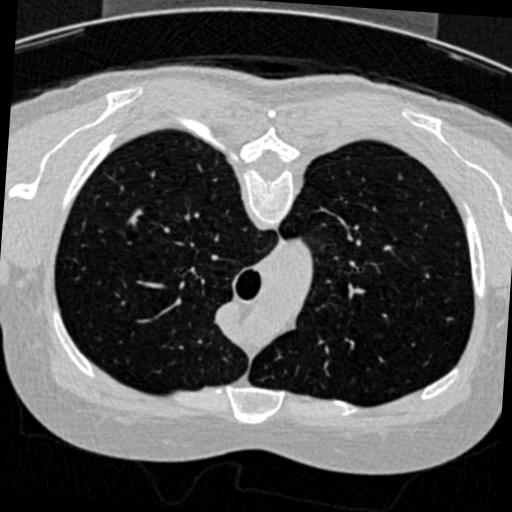nodule: (124, 207, 145, 228)
